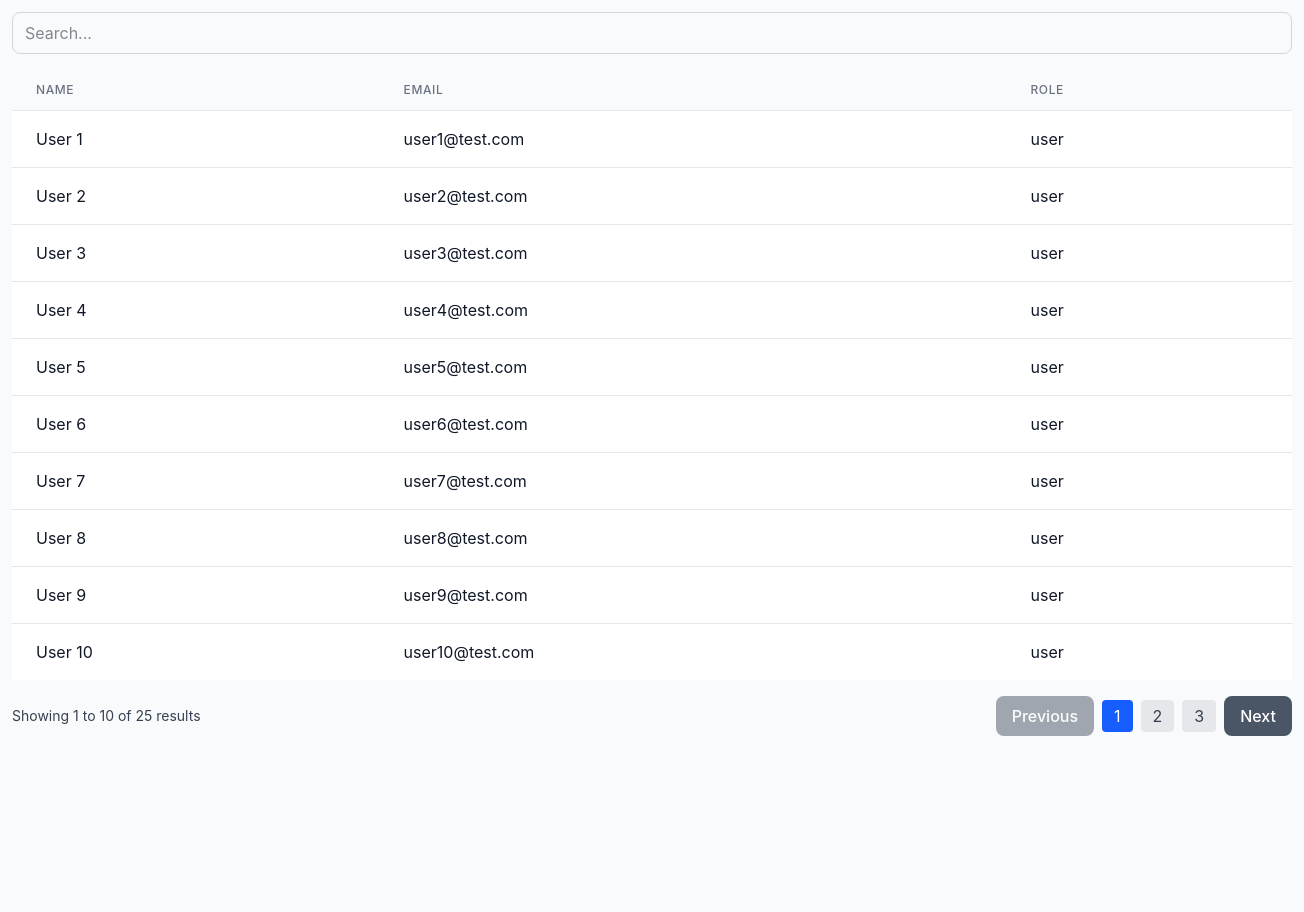
Scenario: DataTable Component › navigates pages with pagination buttons
The width and height of the screenshot is (1304, 912).
Click the button "Next" at {"x": 1258, "y": 716}, box [1224,696,1292,736]
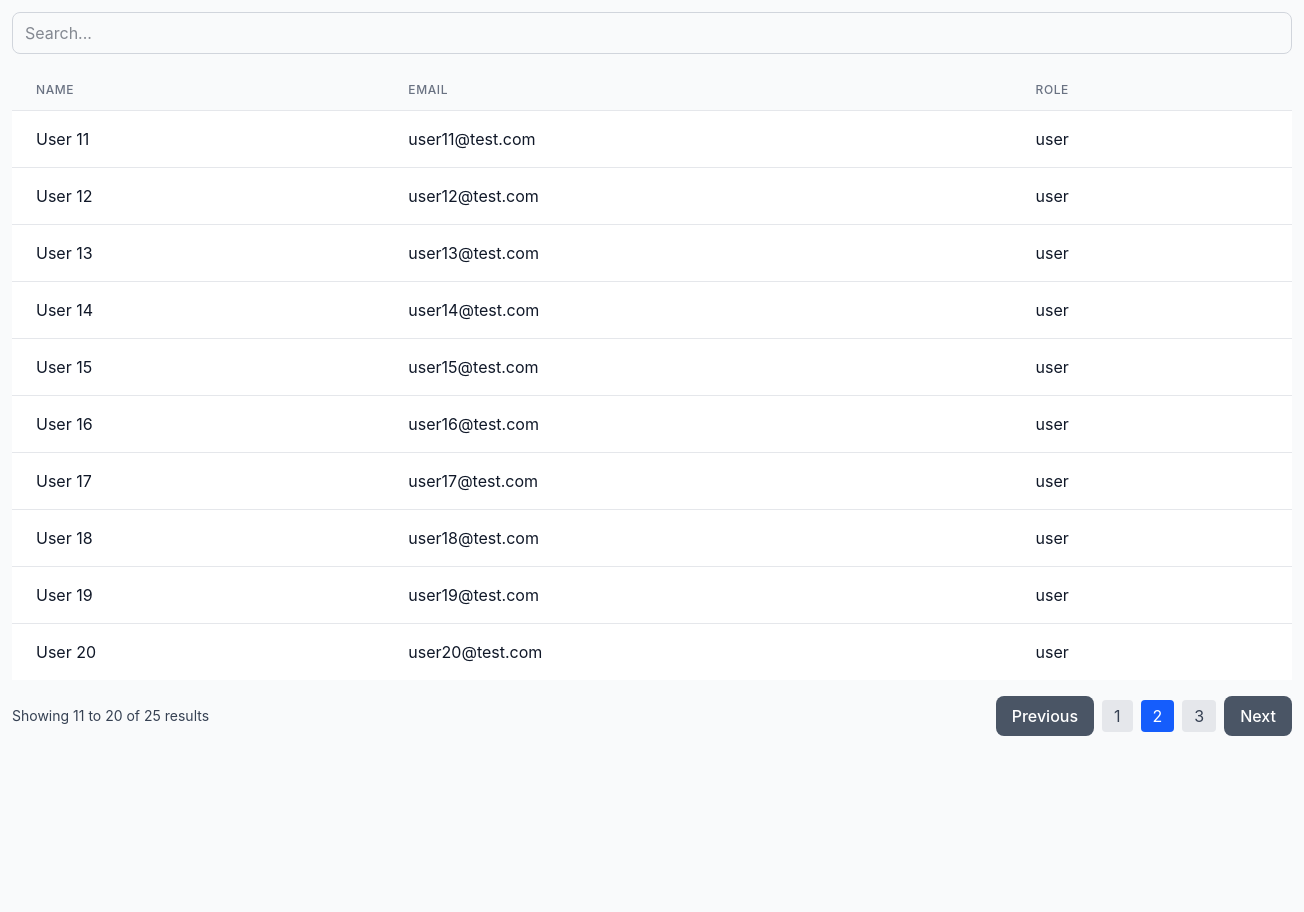
Result: the text "User 11" is shown at [12,110,384,168]
